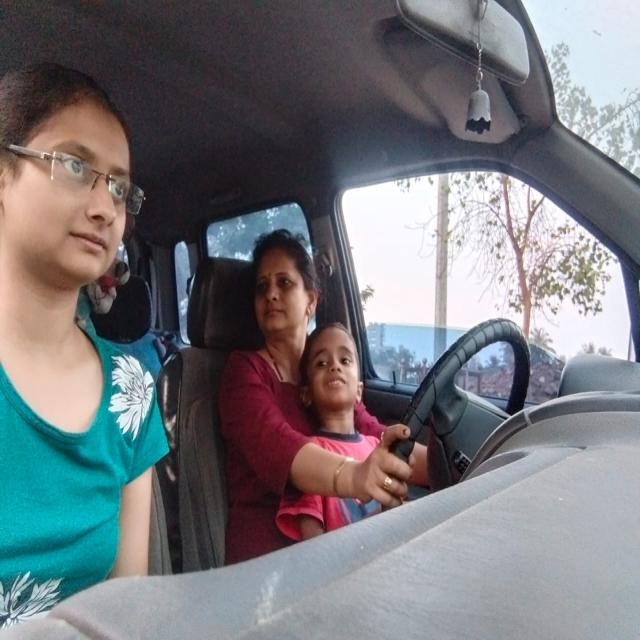child: (302, 315, 368, 415)
person: (2, 54, 144, 302), (246, 228, 322, 338)
